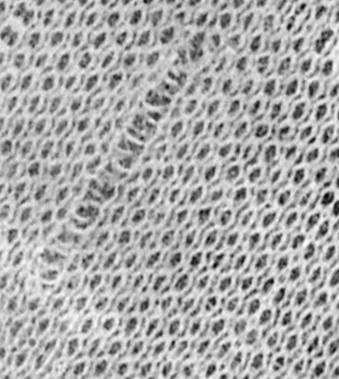slub: (31, 61, 194, 300)
